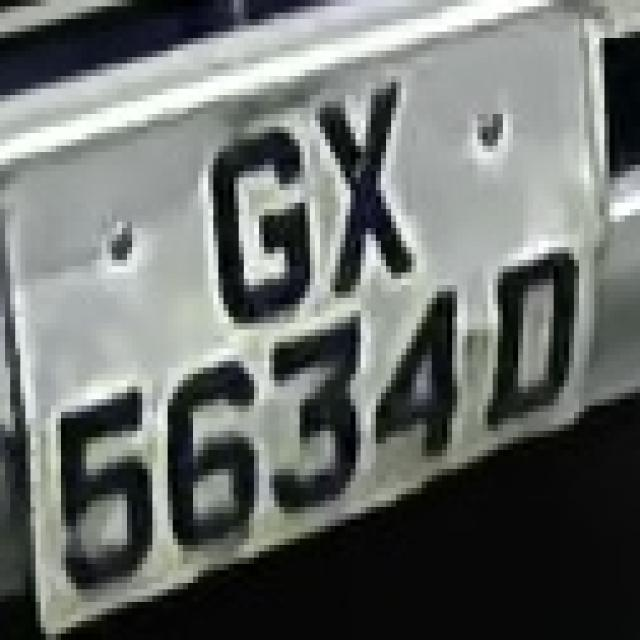3: (259, 316, 371, 520)
4: (371, 272, 477, 469)
5: (46, 361, 162, 621)
6: (158, 336, 269, 570)
D: (478, 234, 589, 450)
G: (193, 101, 330, 342)
X: (279, 63, 427, 304)
